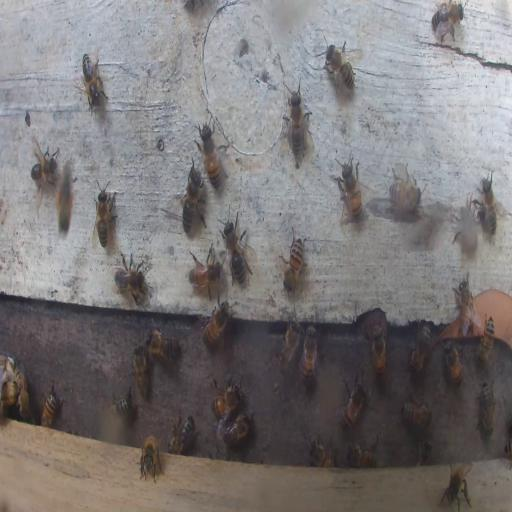nonpollenbee: (220, 208, 252, 286), (321, 38, 356, 96), (179, 165, 207, 235), (336, 152, 364, 222), (285, 81, 308, 163), (92, 177, 118, 248), (112, 251, 148, 302), (188, 248, 222, 298), (440, 461, 474, 511), (340, 377, 368, 432), (80, 53, 105, 112), (198, 124, 221, 188), (282, 232, 305, 295), (201, 301, 231, 347), (29, 142, 59, 187), (455, 274, 478, 332), (388, 171, 420, 212), (432, 3, 464, 41), (478, 174, 498, 232), (146, 328, 178, 364), (210, 382, 241, 419), (140, 435, 164, 482), (168, 414, 195, 455), (300, 326, 319, 384), (408, 321, 430, 371), (458, 204, 480, 254), (280, 320, 300, 368), (222, 412, 252, 444), (132, 342, 149, 398), (478, 380, 495, 436), (476, 314, 495, 364), (41, 382, 61, 429), (369, 323, 386, 377), (400, 399, 432, 427), (444, 343, 464, 385), (110, 383, 133, 416), (14, 368, 29, 416), (346, 442, 374, 467), (309, 440, 334, 467), (1, 373, 16, 417), (418, 439, 432, 465)
pollenbee: (52, 163, 75, 238)
